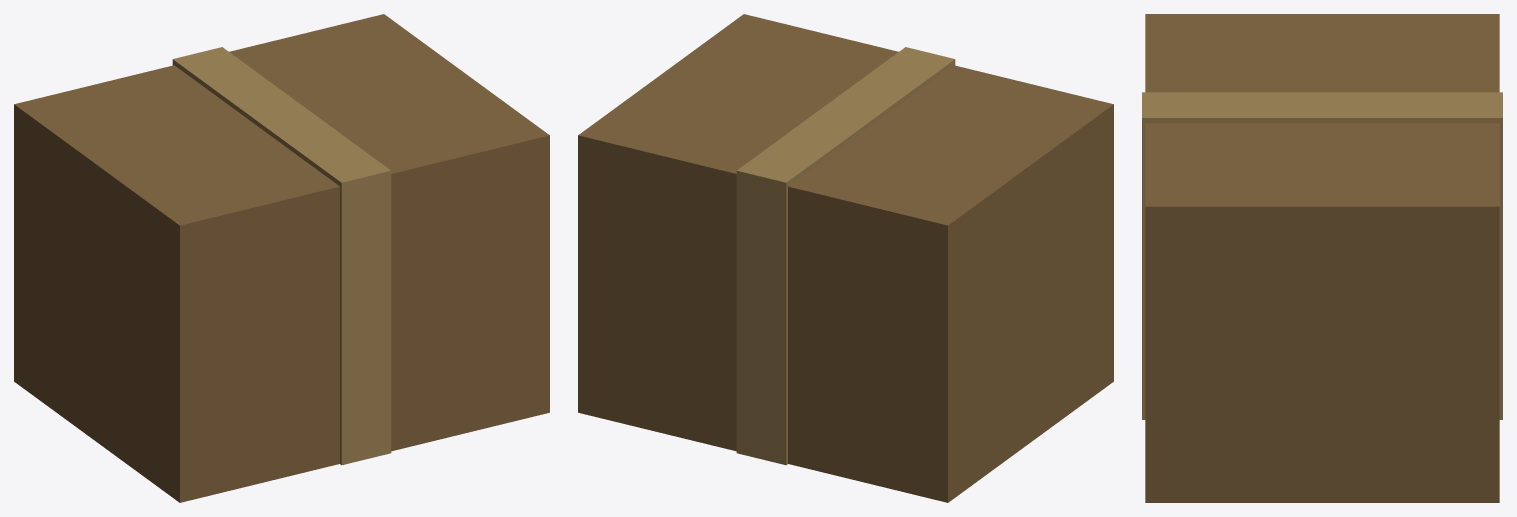
Rendered from cardboard_box.glb.
3 views of the same model, side by side, from view 1: azimuth 30°, elevation 25°; view 2: azimuth 150°, elevation 25°; view 3: azimuth 270°, elevation 25° (orthographic). The views are drawn at different scales.
Parts seen in each view (by area): view 1: cardboard_box; view 2: cardboard_box; view 3: cardboard_box.
Boxes of the visible parts, <box> form: cardboard_box: <box>14,14,549,502</box>; cardboard_box: <box>578,14,1113,502</box>; cardboard_box: <box>1142,14,1502,502</box>.
Size of the model in its own units: 0.67 by 0.489 by 0.53.
